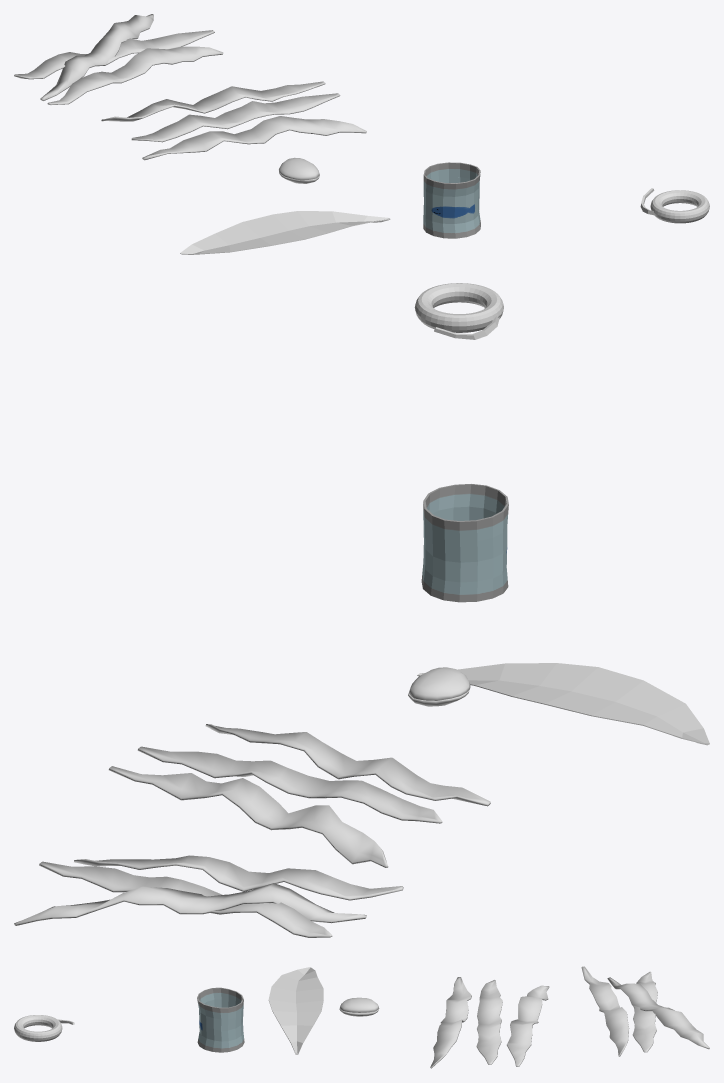
Rendered from Items.fbx.
The picture shows the model from 3 angles, top to bottom: view 1: azimuth 30°, elevation 25°; view 2: azimuth 150°, elevation 25°; view 3: azimuth 270°, elevation 25°; orthographic projection. The views are drawn at different scales.
Visible parts, largest first — view 1: Seaweed01, Seaweed02, Leaf, Can, Thread_big, Clam; view 2: Seaweed01, Seaweed02, Leaf, Can, Thread_big, Clam; view 3: Seaweed01, Seaweed02, Leaf, Can, Thread_big, Clam.
Part boxes in pixels (<box>): Seaweed01: <box>101,81,366,160</box>; Seaweed02: <box>14,14,223,104</box>; Leaf: <box>180,211,390,254</box>; Can: <box>423,162,480,238</box>; Thread_big: <box>640,188,709,223</box>; Clam: <box>278,157,319,183</box>; Seaweed01: <box>108,724,490,867</box>; Seaweed02: <box>14,855,403,937</box>; Leaf: <box>417,663,709,745</box>; Can: <box>421,484,508,602</box>; Thread_big: <box>414,283,503,339</box>; Clam: <box>408,667,470,706</box>; Seaweed01: <box>430,977,549,1068</box>; Seaweed02: <box>581,966,709,1056</box>; Leaf: <box>268,967,323,1054</box>; Can: <box>197,987,244,1052</box>; Thread_big: <box>14,1015,74,1041</box>; Clam: <box>339,997,379,1016</box>.
Size of the model in its own units: 1365 by 376 by 2814.
